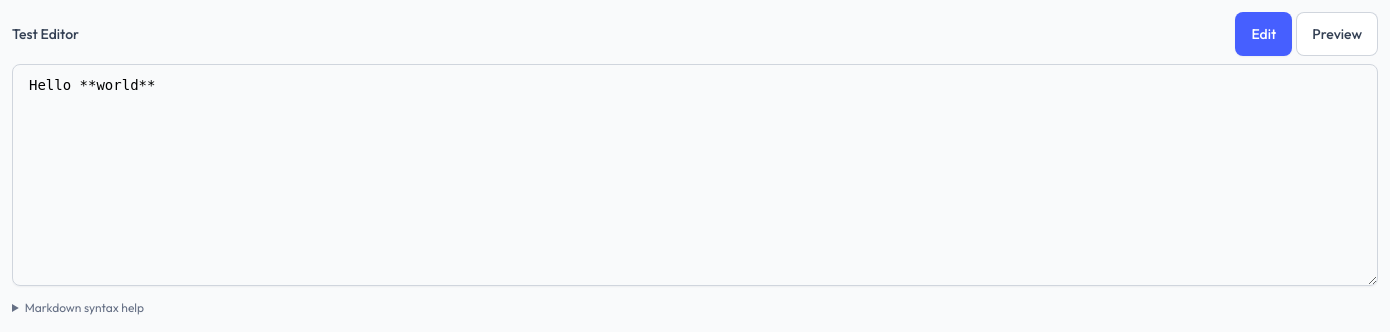
Test: MarkdownEditor › switches to preview mode and renders markdown
Click the button "Preview".
click(1337, 34)  # box [1296,12,1378,56]
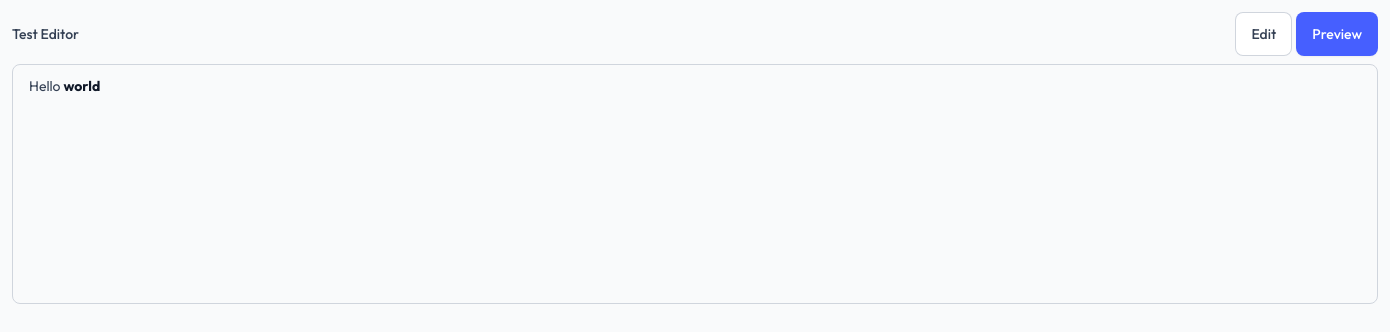
Check: the text "Hello" is shown, box [29,77,64,95]
Check: the text "world" is shown, box [64,77,100,95]
